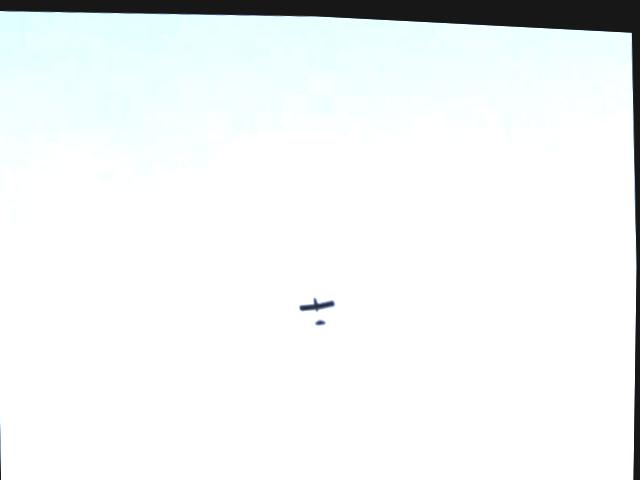uav: (295, 284, 347, 333)
